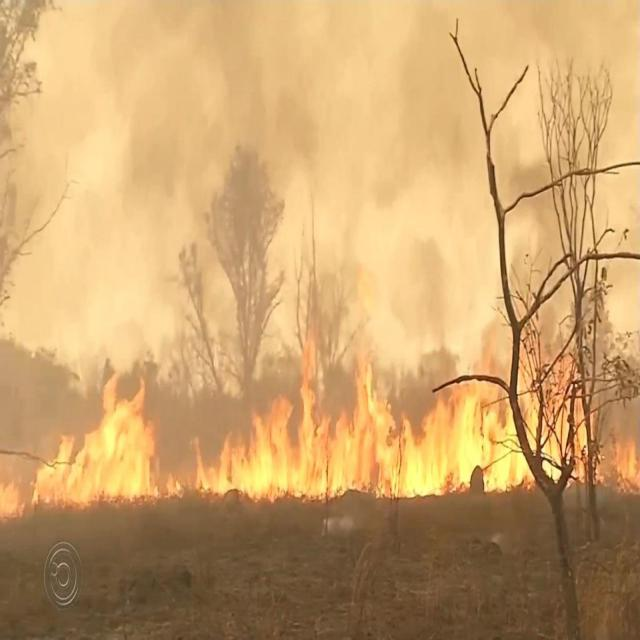fire: (18, 326, 590, 511)
